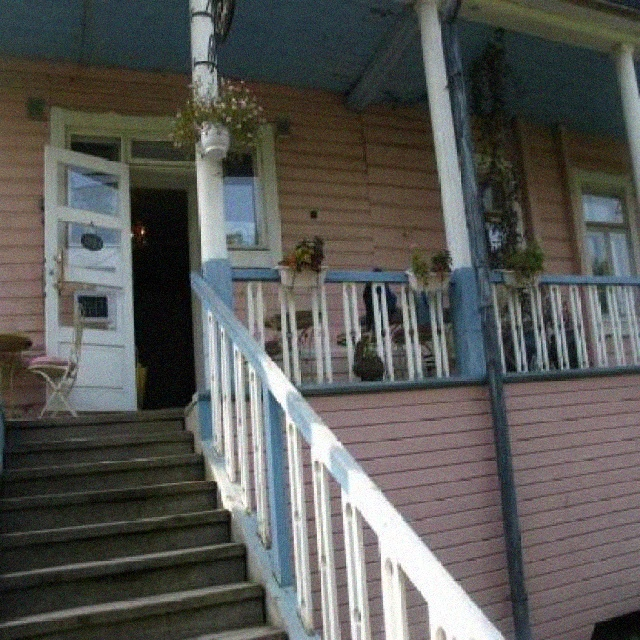stair: (0, 414, 286, 640)
